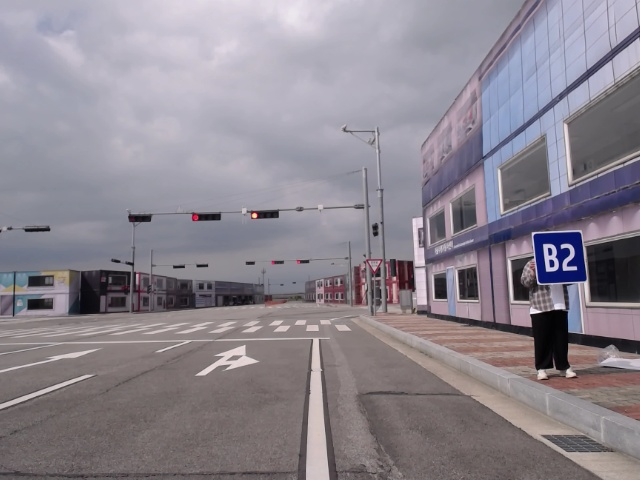delivery_b2: (530, 229, 590, 286)
red_4: (189, 210, 225, 222), (249, 209, 281, 221), (296, 258, 312, 266), (271, 259, 286, 265)
